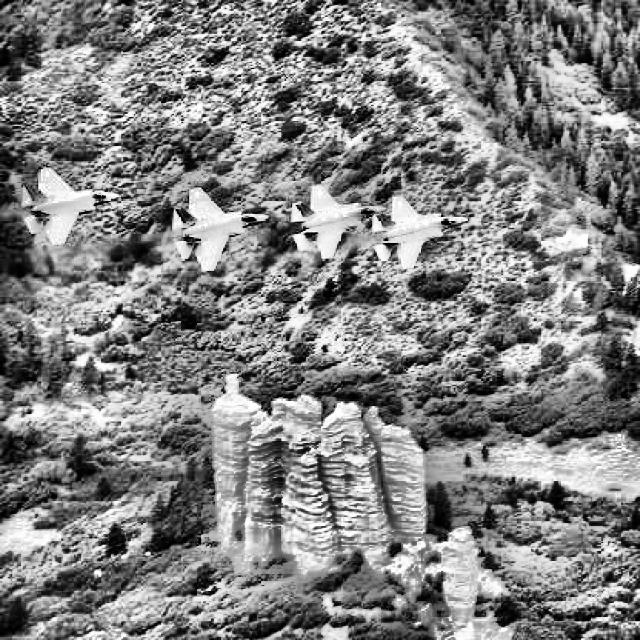F35: (172, 188, 270, 272), (22, 168, 120, 245), (290, 185, 388, 260), (372, 195, 468, 271)
